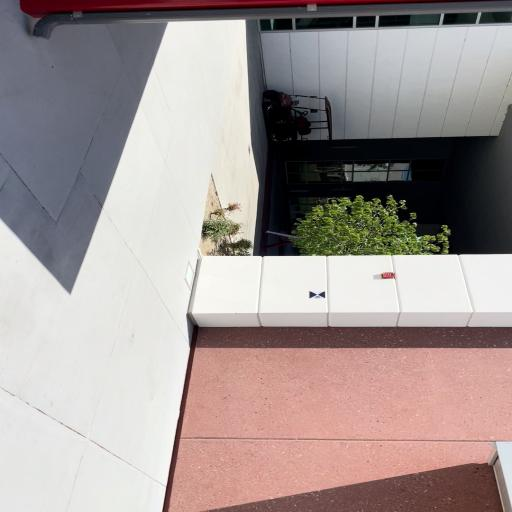target6: (309, 291, 325, 299)
